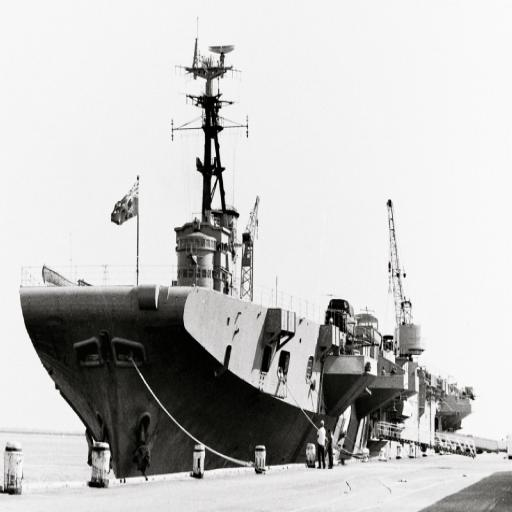Portanaves: (16, 30, 481, 483)
